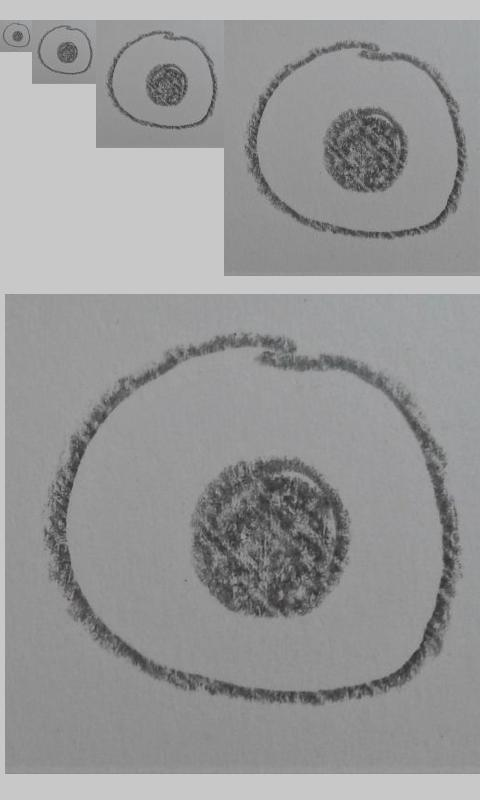radio_button: (43, 330, 463, 707), (245, 39, 468, 240), (105, 29, 218, 131), (37, 24, 94, 75), (2, 22, 31, 48)
